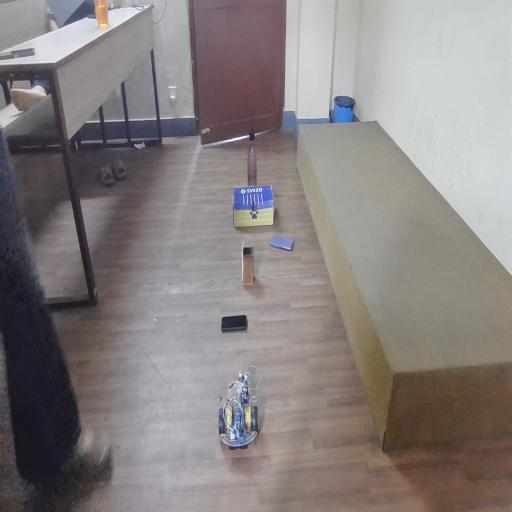Bottle: (243, 130, 268, 195)
car: (212, 359, 286, 471)
